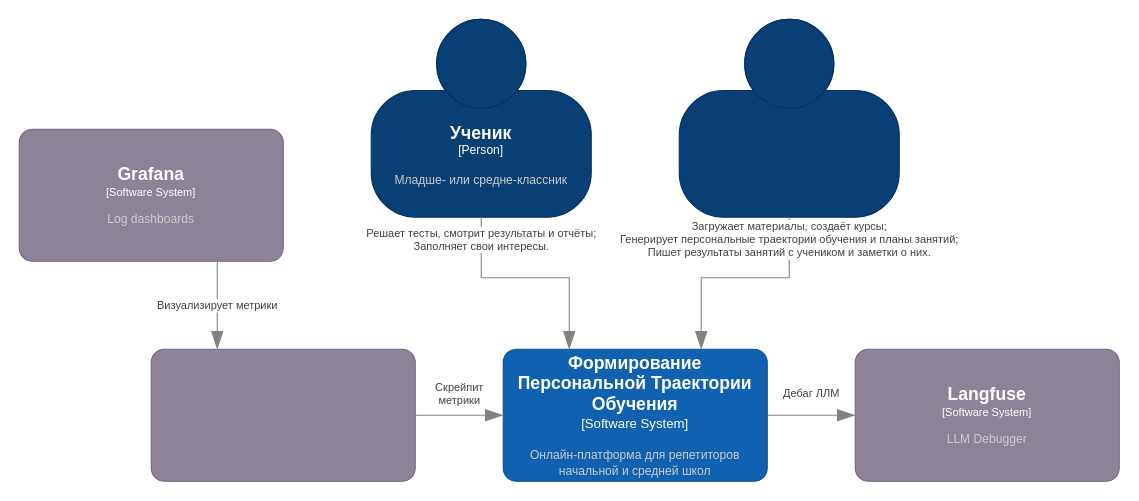
Some shapes in this 1139 by 501 pixel diagram are drawn without their labels. The centre of each missing label's shape, as x and y in pixels:
Prometheus [Software System] Logging: point (282, 414)
Репетитор [Person] Репетитор начальных или средних классов: point (788, 117)
